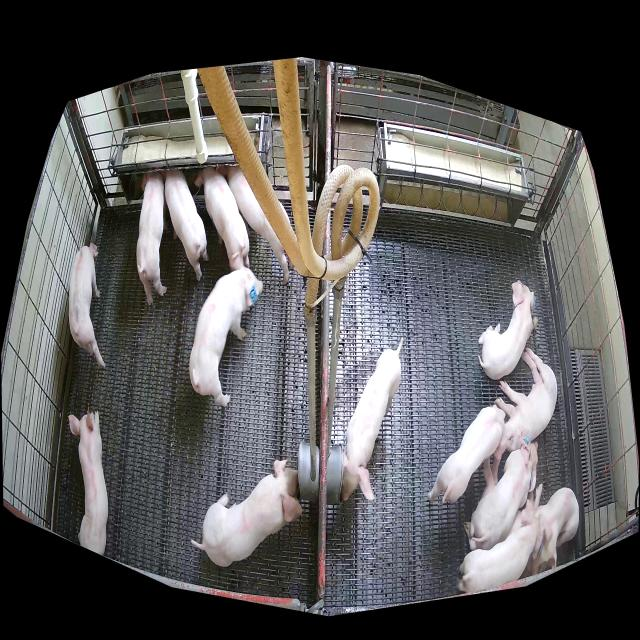pig: (191, 460, 302, 567), (189, 269, 263, 407), (342, 338, 403, 500), (457, 493, 543, 593), (464, 441, 539, 551), (219, 166, 288, 284), (427, 404, 508, 503), (496, 348, 558, 451), (478, 281, 538, 379), (69, 408, 108, 555), (194, 167, 249, 268), (160, 169, 208, 281), (69, 243, 105, 369), (530, 486, 578, 575), (136, 172, 167, 306)
